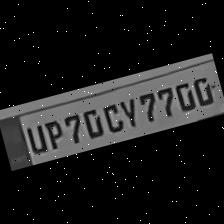0: (170, 78, 198, 115), (190, 74, 218, 110)
7: (134, 88, 162, 127), (59, 110, 87, 148), (152, 83, 179, 122)
C: (98, 98, 126, 136)
D: (78, 104, 106, 142)
P: (40, 116, 68, 152)
U: (20, 121, 48, 157)
Y: (117, 94, 142, 131)
